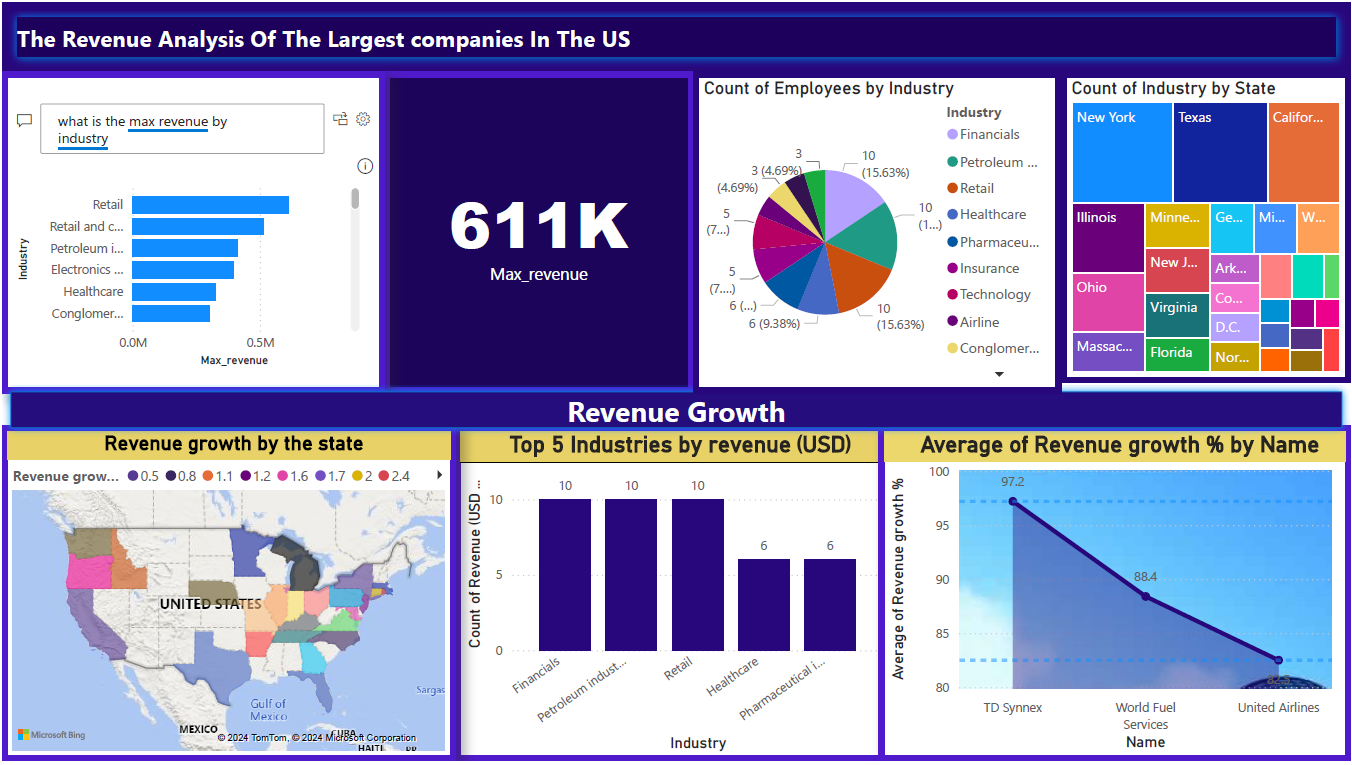

What the dashboard file says about the page in this screenshot:
{"tool":"powerbi","page":{"name":"Page 1","canvas":[1280,720],"ordinal":0},"visuals":[{"type":"columnChart","title":"Top 5 Industries by revenue (USD)","fields":{"Category":["companies_cleaned.Industry"],"Y":["CountNonNull(companies_cleaned.Revenue (USD millions))"]},"box":[430.5,402,416.2,317.9],"z":0},{"type":"filledMap","title":"Revenue growth by the state","fields":{"Category":["companies_cleaned.State"],"Series":["companies_cleaned.Revenue growth %"]},"box":[0,402,430.5,317.9],"z":1000},{"type":"shape","title":"The Largest Companies In The USA","box":[0,0,1280,65.6],"z":2000},{"type":"card","title":"Highest Revenue Reported","fields":{"Values":["companies_cleaned.Max_revenue"]},"box":[363.5,65.6,292.2,305],"z":3000},{"type":"lineChart","fields":{"Y":["Avg(companies_cleaned.Revenue growth %)"],"Category":["companies_cleaned.Name"]},"box":[832.4,402,447.6,317.9],"z":4000},{"type":"qnaVisual","box":[0,65.6,363.5,305],"z":5000},{"type":"shape","box":[0,360.6,1280,51.3],"z":5001},{"type":"pieChart","fields":{"Y":["CountNonNull(companies_cleaned.Employees)"],"Category":["companies_cleaned.Industry"]},"box":[655.7,65.6,349.2,305],"z":5002},{"type":"treemap","fields":{"Group":["companies_cleaned.State"],"Values":["CountNonNull(companies_cleaned.Industry)"]},"box":[1005,66,275,295],"z":5003}]}

Visuals, with their boxes in screenshot pixels (x1, y1, x2, y2), scaled from the page's 1280x720 canvas onto the 1352x765 screenshot:
"Top 5 Industries by revenue (USD)" columnChart: crop(455, 427, 894, 764)
"Revenue growth by the state" filledMap: crop(0, 427, 455, 764)
"The Largest Companies In The USA" shape: crop(0, 0, 1351, 70)
"Highest Revenue Reported" card: crop(384, 70, 693, 394)
lineChart - Avg(companies_cleaned.Revenue growth %) x companies_cleaned.Name: crop(879, 427, 1351, 764)
qnaVisual: crop(0, 70, 384, 394)
shape: crop(0, 383, 1351, 438)
pieChart - CountNonNull(companies_cleaned.Employees) x companies_cleaned.Industry: crop(693, 70, 1061, 394)
treemap - companies_cleaned.State x CountNonNull(companies_cleaned.Industry): crop(1062, 70, 1351, 384)
